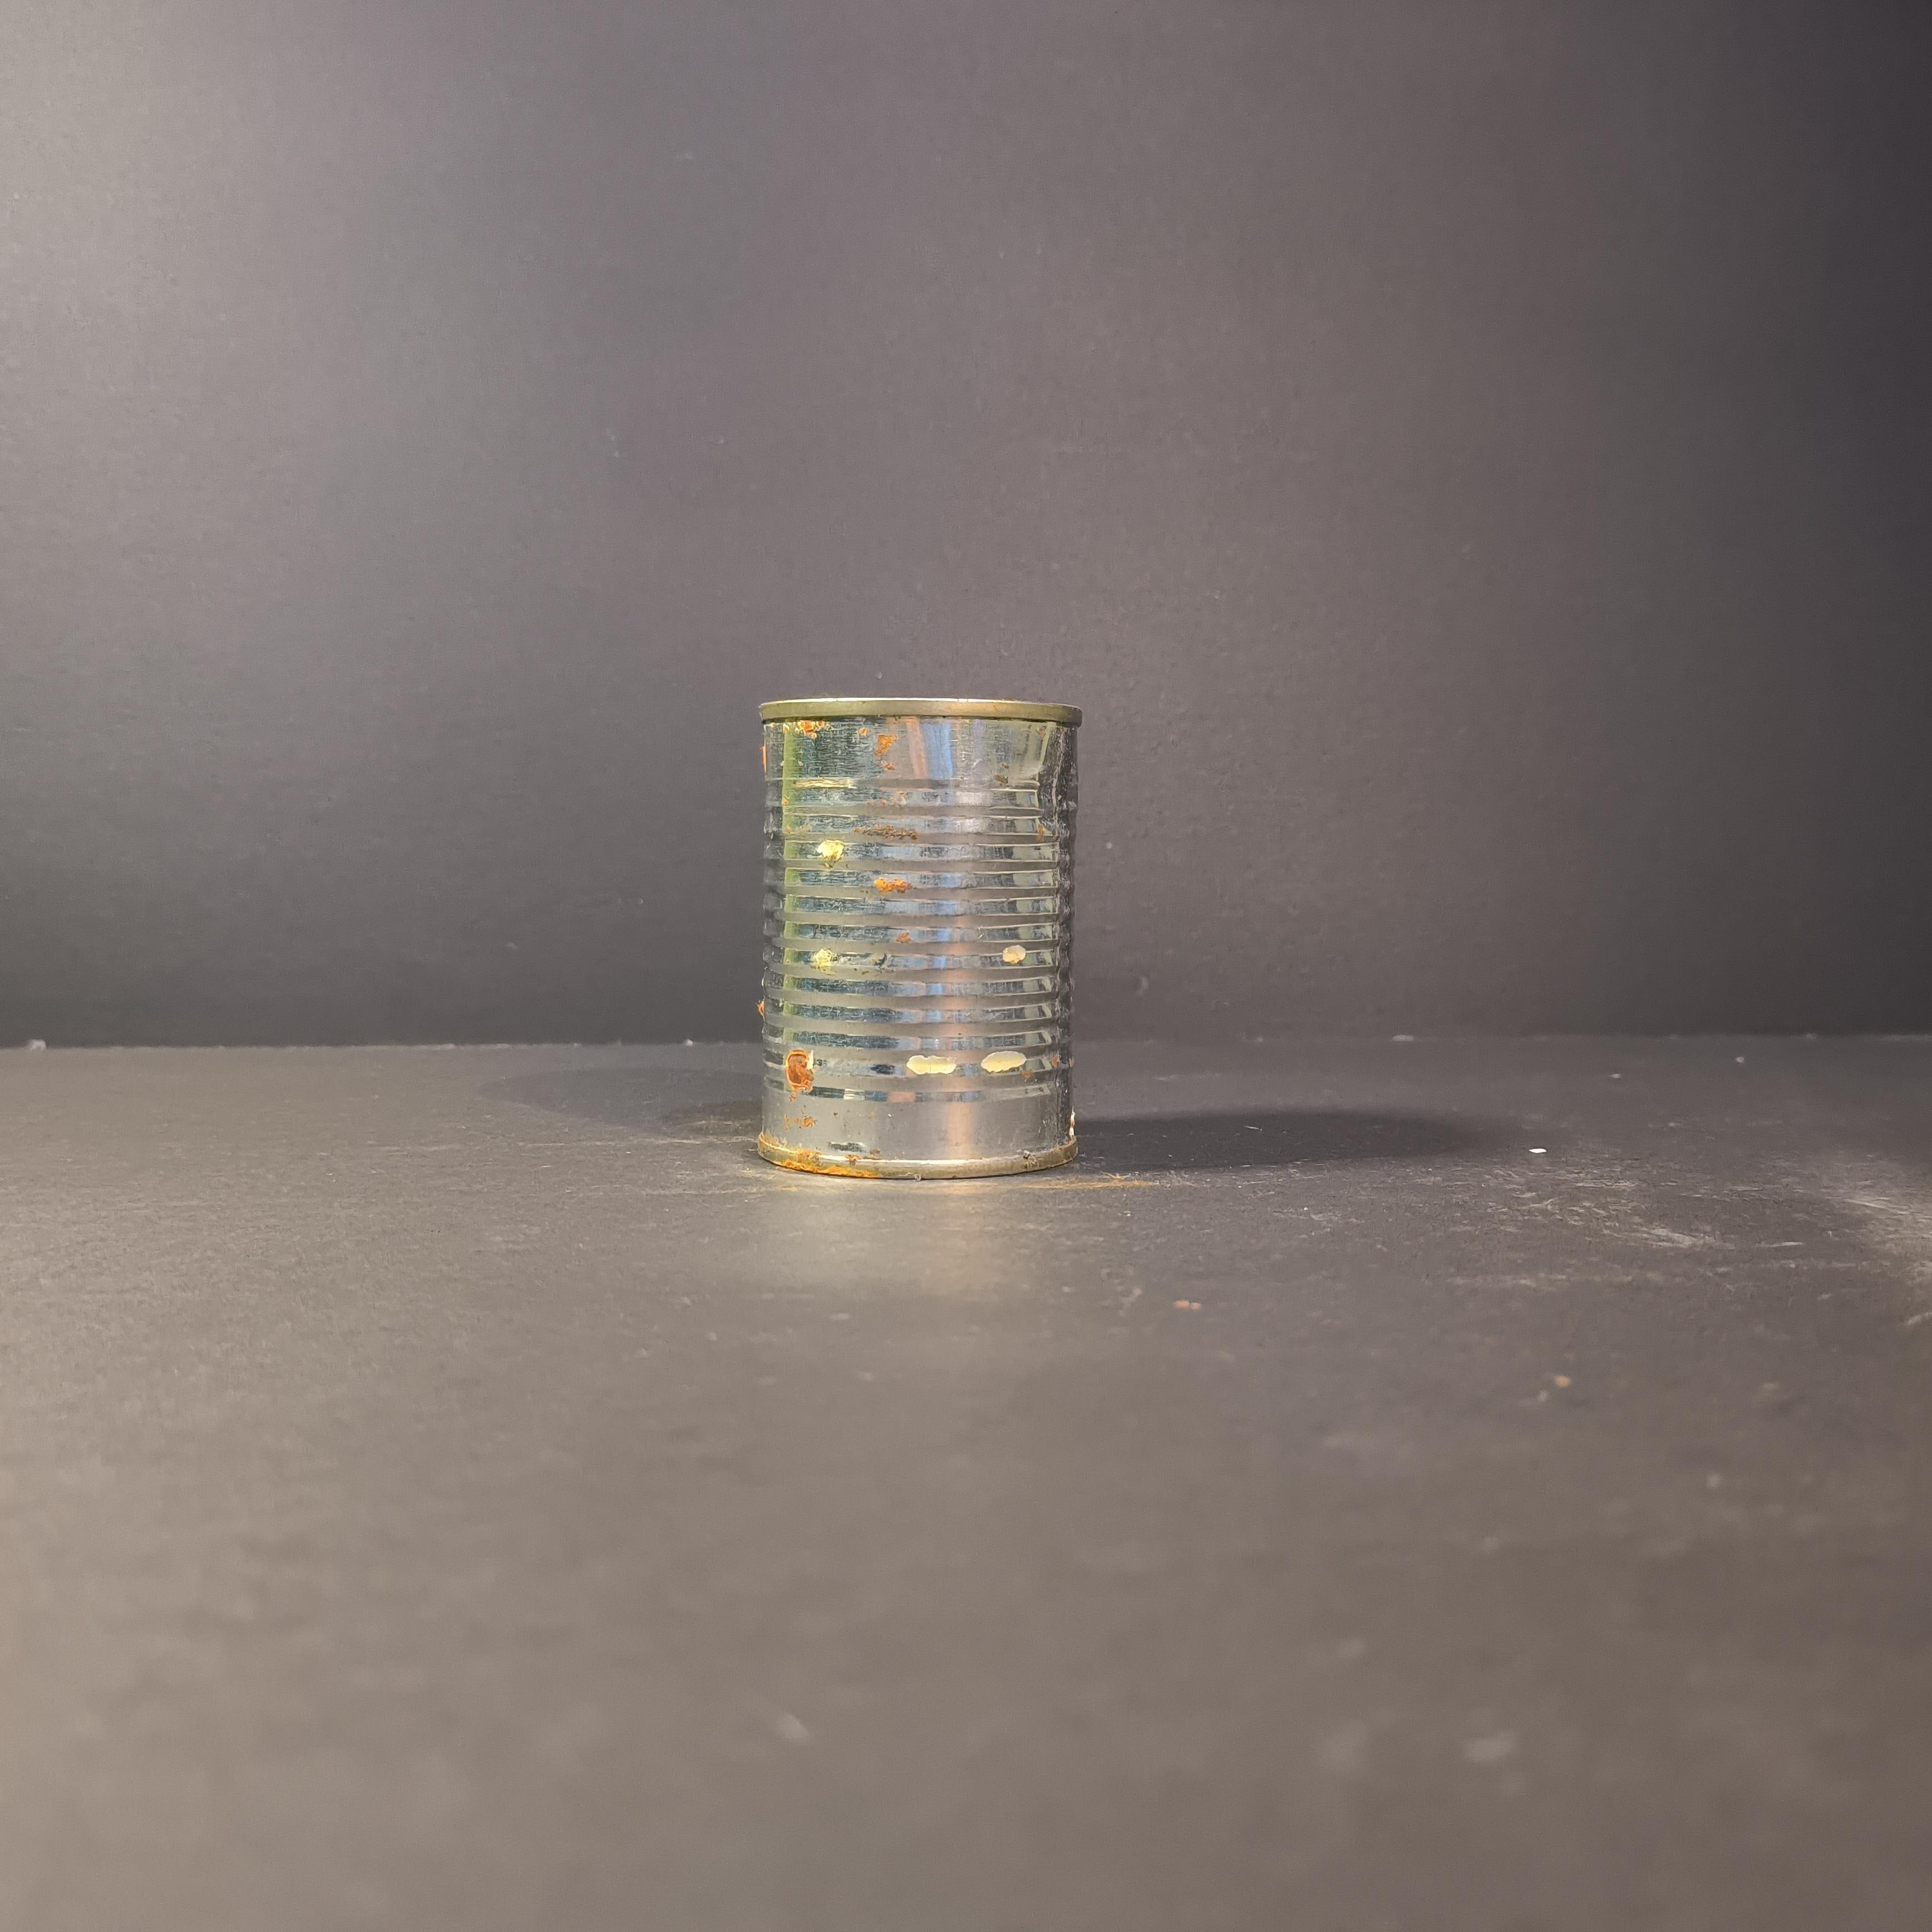Rusted: (734, 656, 1099, 1187)
